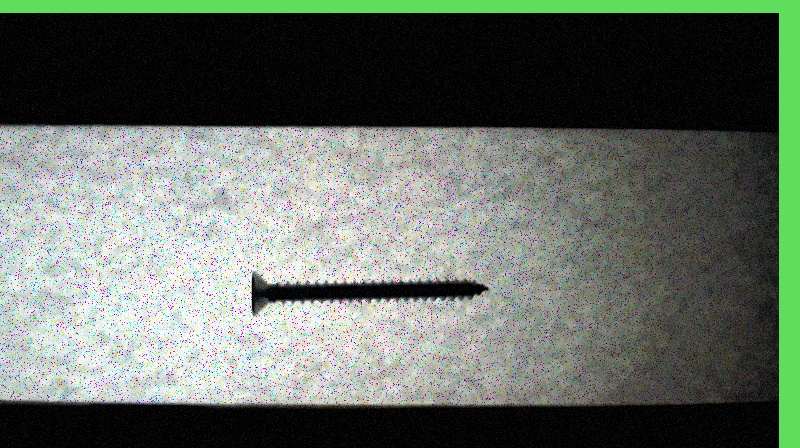S002: (247, 268, 490, 319)
